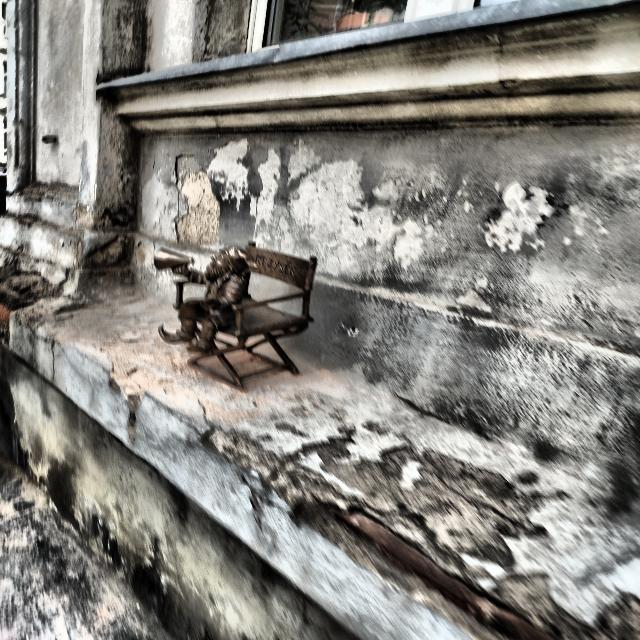Rezyser: (153, 242, 317, 389)
